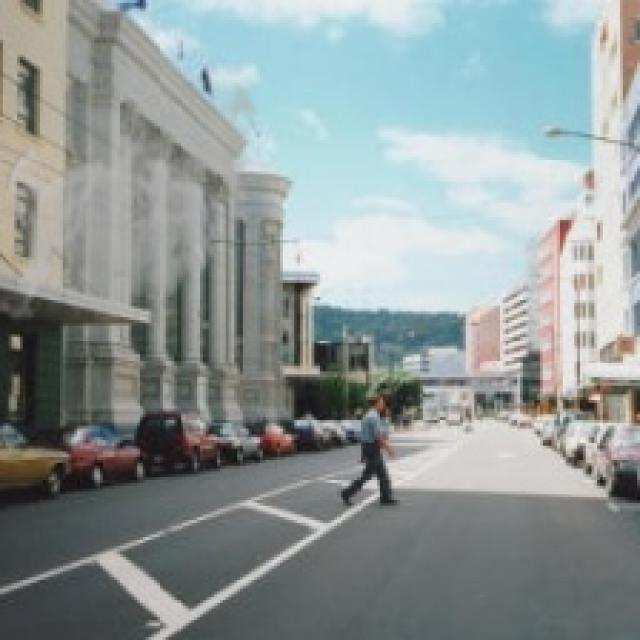smoke: (0, 49, 266, 328)
